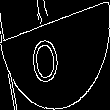O_N: (38, 25, 72, 85)
